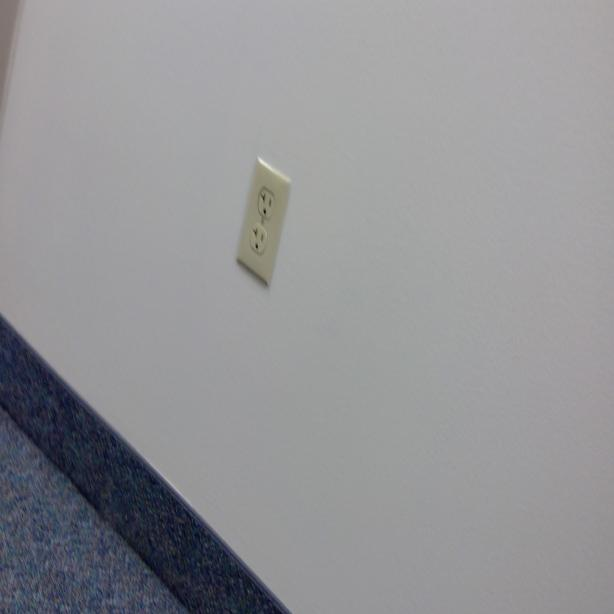typeb: (256, 184, 274, 218), (250, 226, 267, 257)
